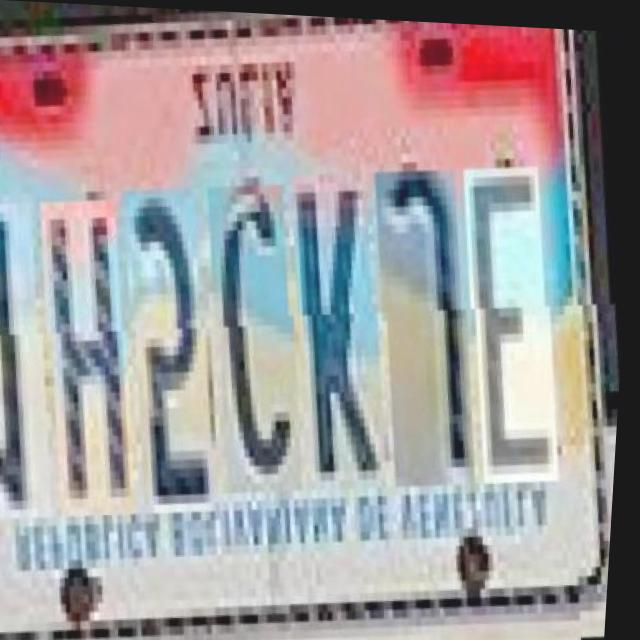1: (0, 203, 77, 525)
5: (127, 188, 239, 519)
c: (212, 186, 327, 498)
e: (465, 169, 583, 492)
h: (44, 199, 161, 522)
j: (377, 171, 499, 494)
k: (293, 174, 411, 496)
